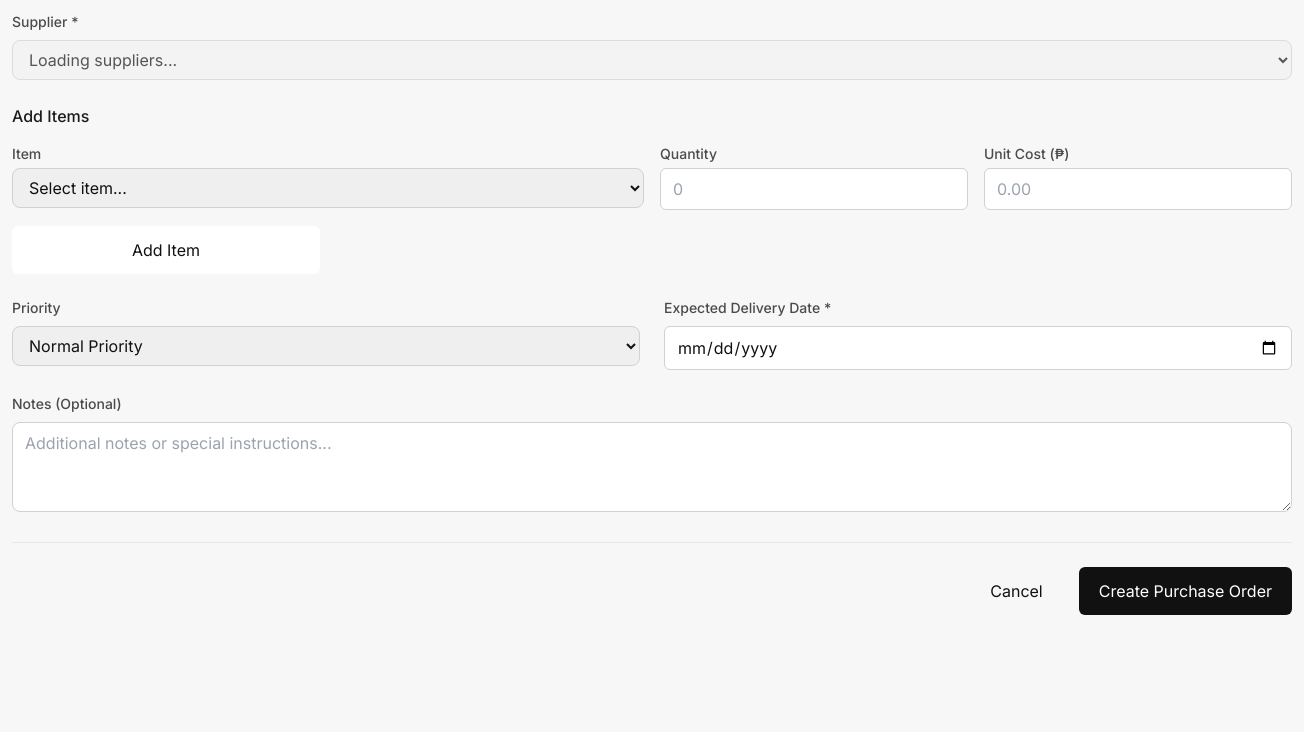
Scenario: PurchaseOrderForm › shows error when trying to add item without required fields
Note: Try to add item without filling fields
Click the button "Add Item".
click(166, 250)  # box left=12, top=226, right=320, bottom=274
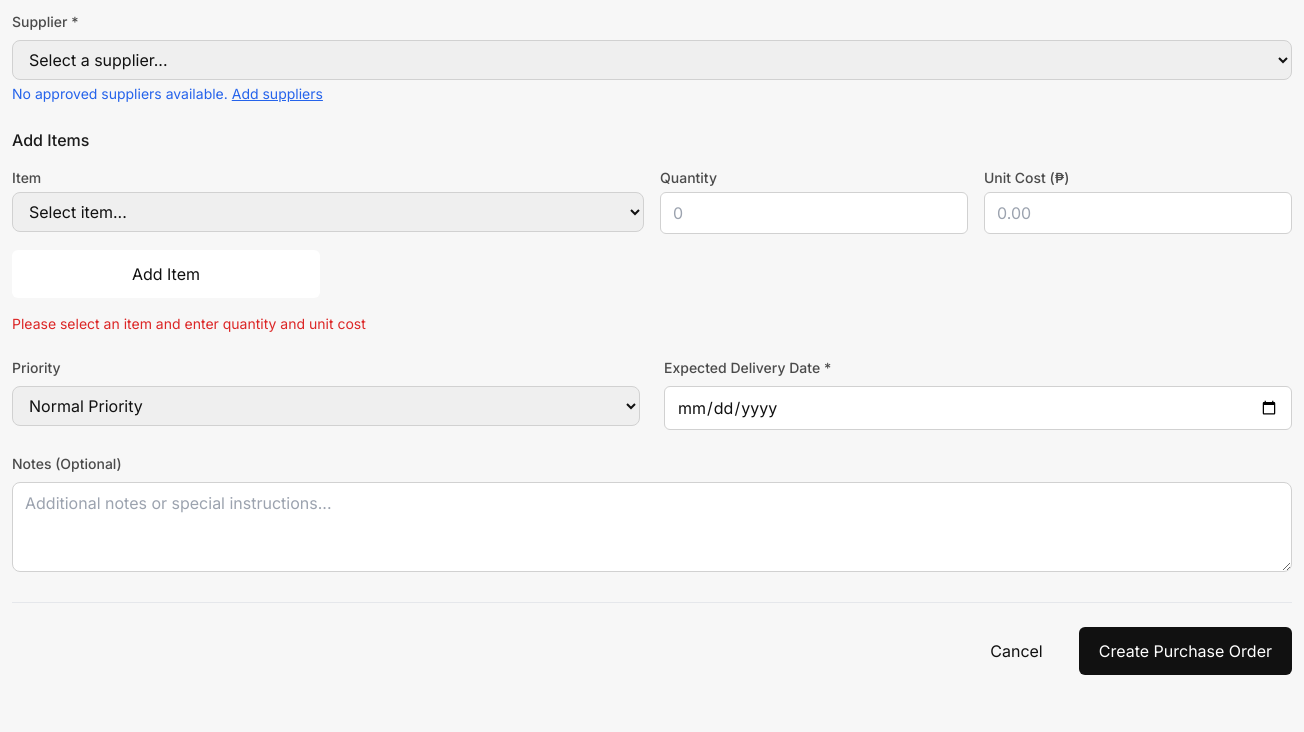
expect the text "Please select an item and enter quantity and unit cost" is shown: met, box left=12, top=315, right=366, bottom=332
